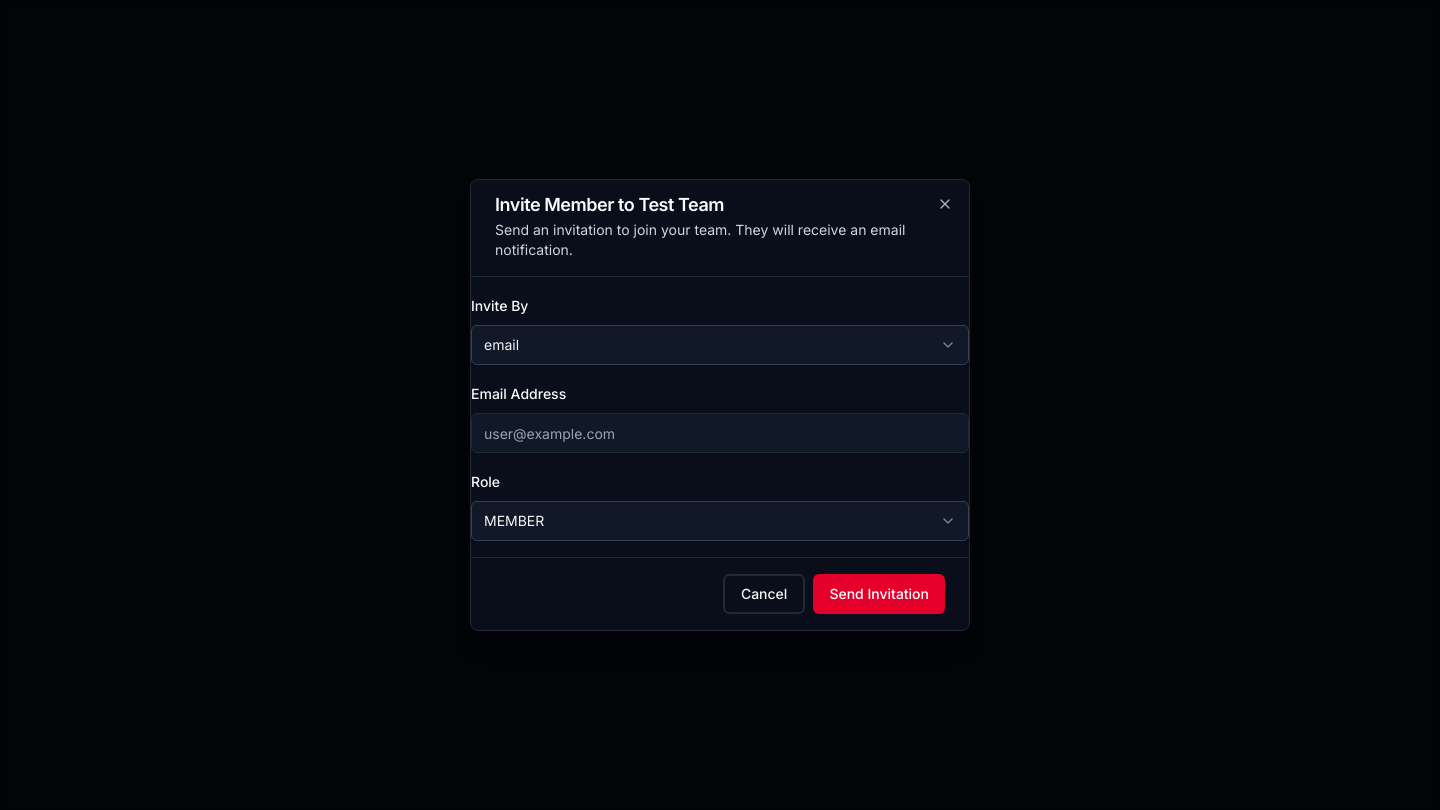
InviteModal › should disable submit button while loading
Type "test@example.com" into the field labelled "Email Address" at (720, 433), box [471, 413, 969, 453]
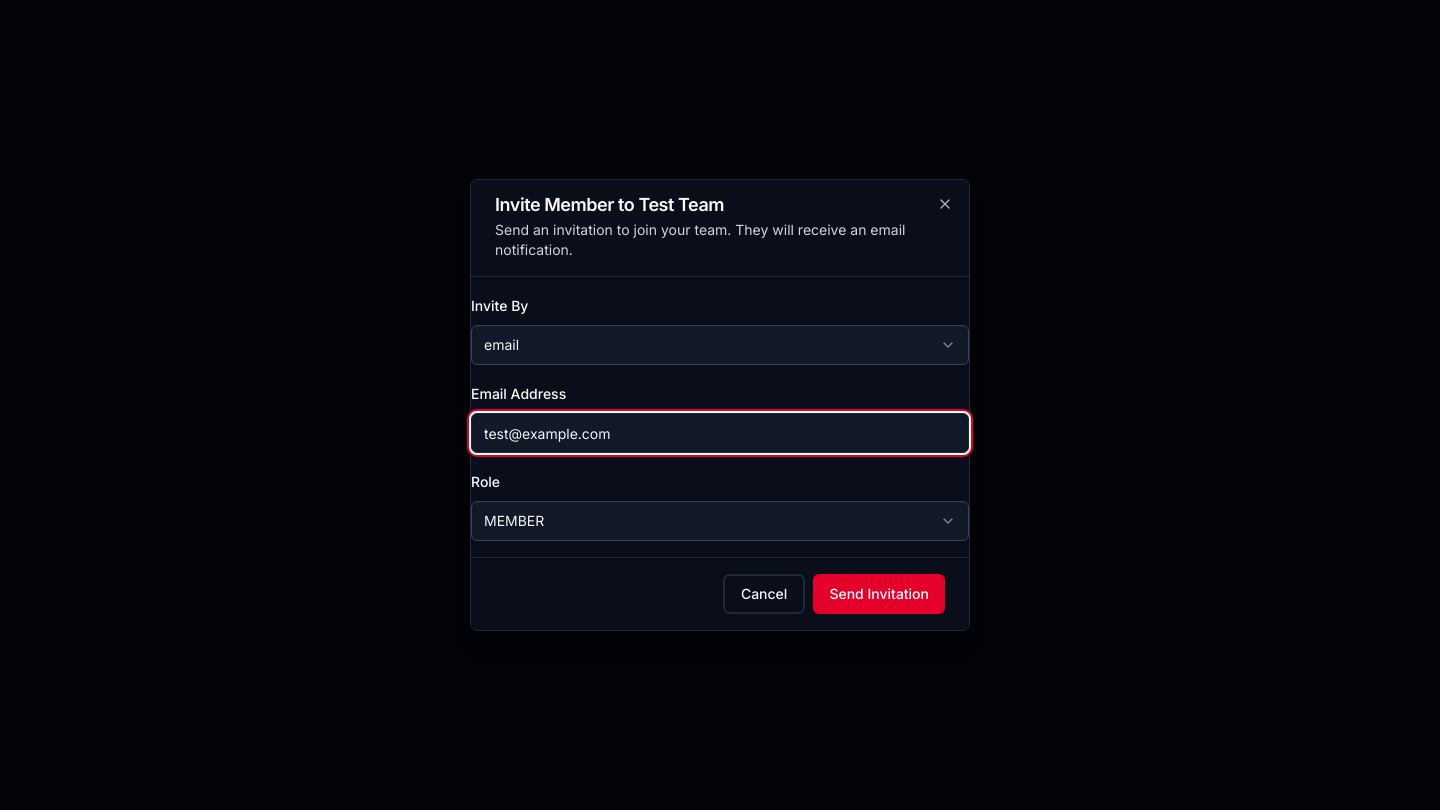
Click the button "Send Invitation" at (879, 594), box [813, 574, 945, 614]
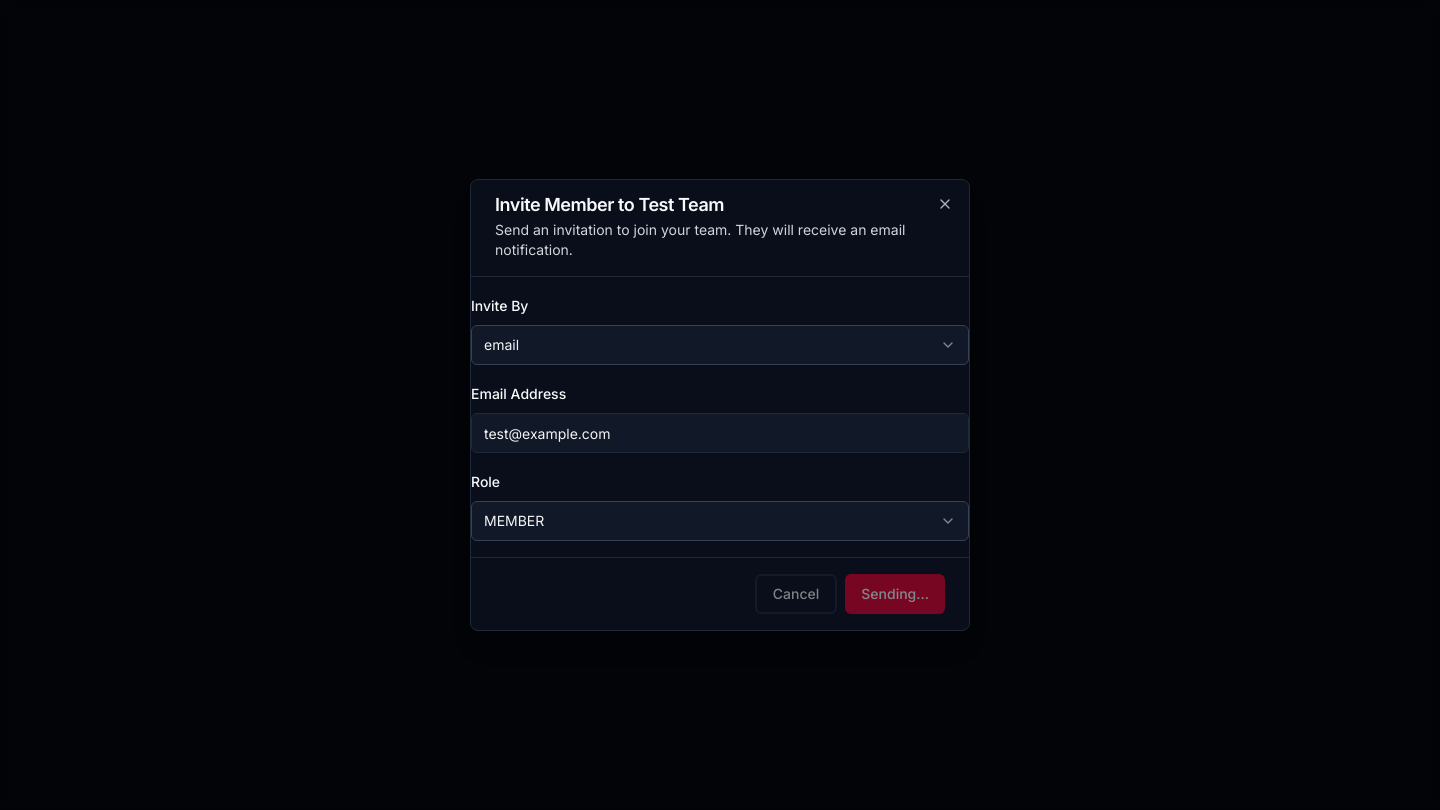
Now the button "Sending..." is shown, box [845, 574, 945, 614]
